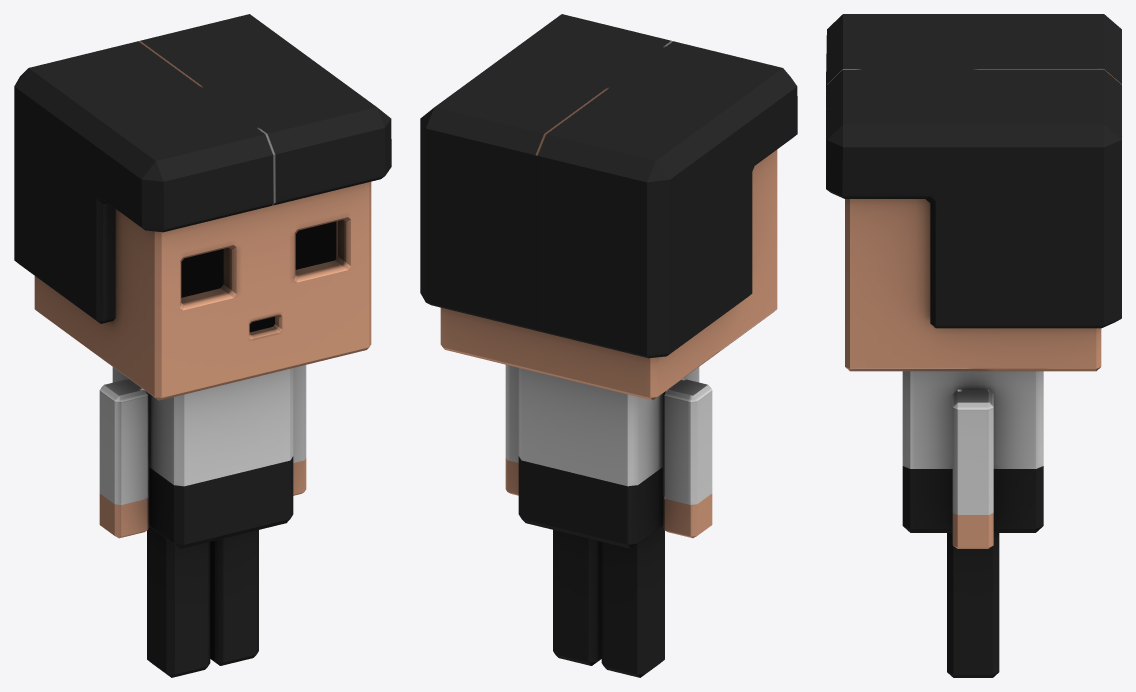
The model's file is Boy.FBX.
The picture shows the model from 3 angles, left to right: view 1: azimuth 30°, elevation 25°; view 2: azimuth 150°, elevation 25°; view 3: azimuth 270°, elevation 25°; orthographic projection. The views are drawn at different scales.
Visible parts, largest first — view 1: Boy01; view 2: Boy01; view 3: Boy01.
Part boxes in pixels (x1=…): Boy01: x1=14, y1=14, x2=391, y2=677; Boy01: x1=420, y1=14, x2=797, y2=677; Boy01: x1=826, y1=14, x2=1121, y2=677.
Bounding box in the file's own units: 5.77 × 12.65 × 5.77.
1 material, 1 textured.
